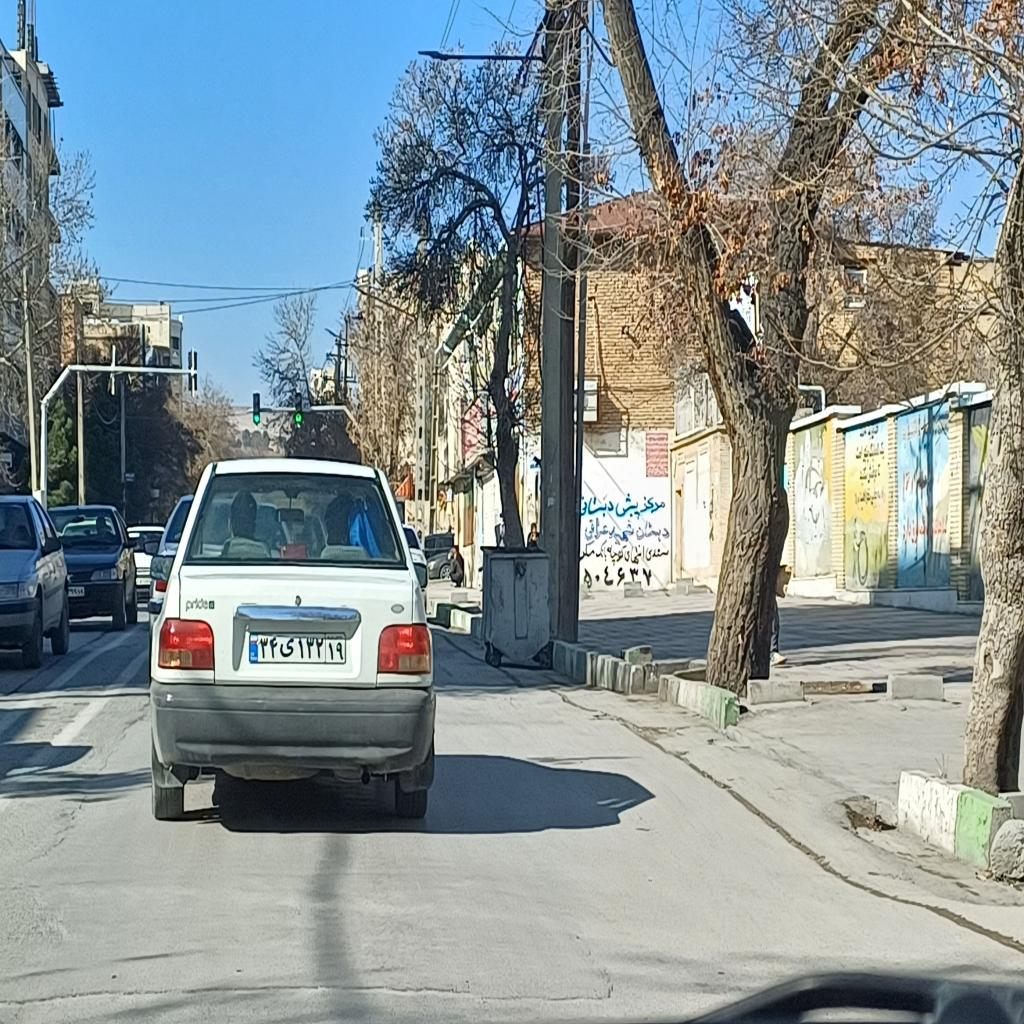Plates: (249, 632, 346, 662)
